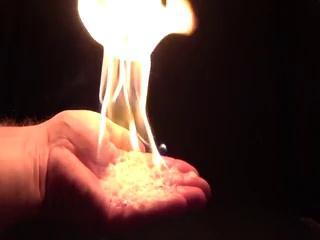Fire: (74, 1, 173, 183)
